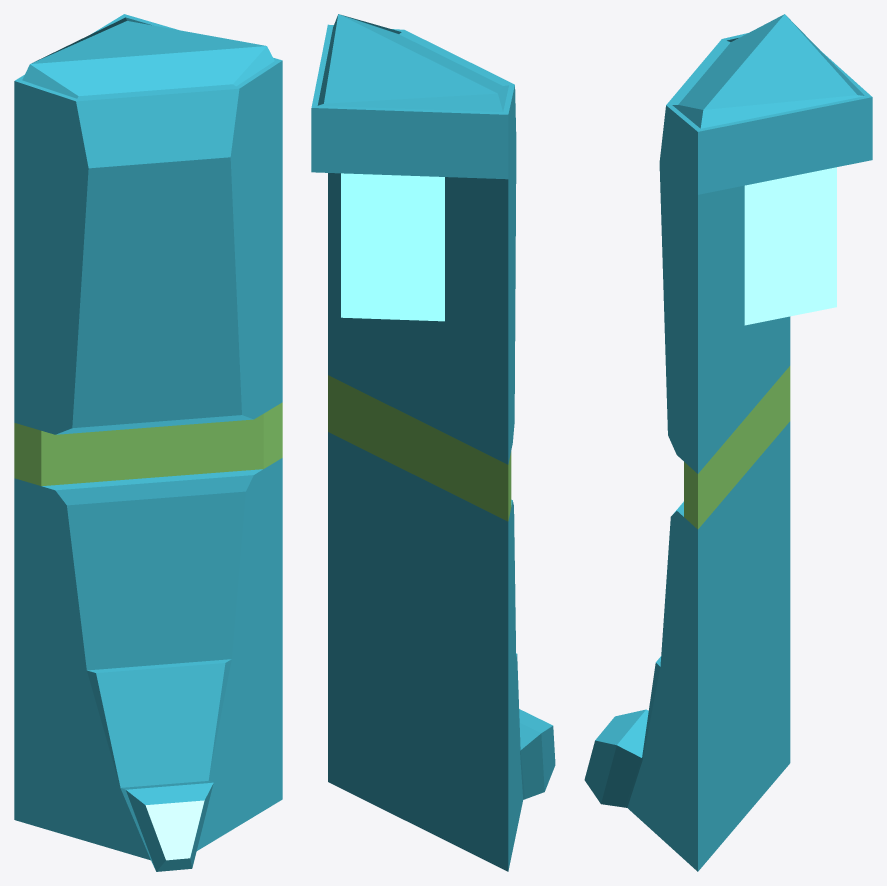
File: T2_Column.fbx
The picture shows the model from 3 angles, left to right: view 1: azimuth 30°, elevation 25°; view 2: azimuth 150°, elevation 25°; view 3: azimuth 270°, elevation 25°; orthographic projection. The views are drawn at different scales.
Parts seen in each view (by area): view 1: T2_WallCorner; view 2: T2_WallCorner; view 3: T2_WallCorner.
Part boxes in pixels (<box>): T2_WallCorner: <box>14,14,282,871</box>; T2_WallCorner: <box>311,14,555,871</box>; T2_WallCorner: <box>584,14,872,871</box>.
Bounding box in the file's own units: 78.68 × 255 × 88.2.
